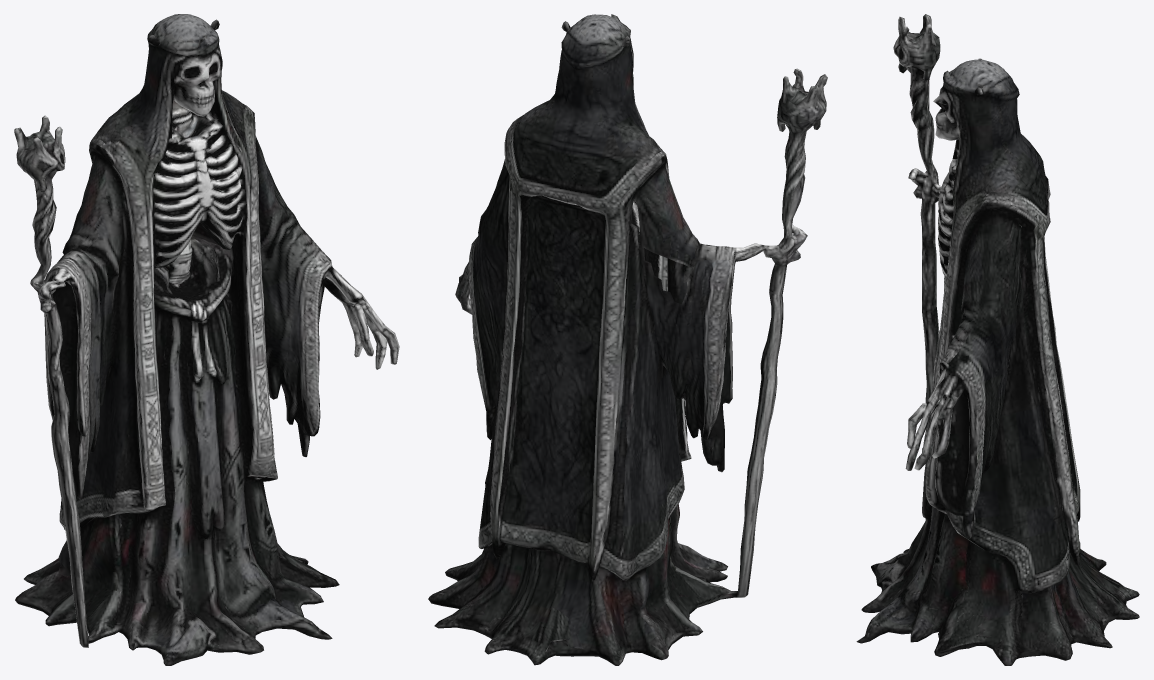
The model's file is UD_Mage.glb.
3 views of the same model, side by side, from view 1: azimuth 30°, elevation 25°; view 2: azimuth 150°, elevation 25°; view 3: azimuth 270°, elevation 25° (orthographic). The views are drawn at different scales.
Bounding box in the file's own units: 1.26 × 1.91 × 0.8963.
1 material, 1 textured.
